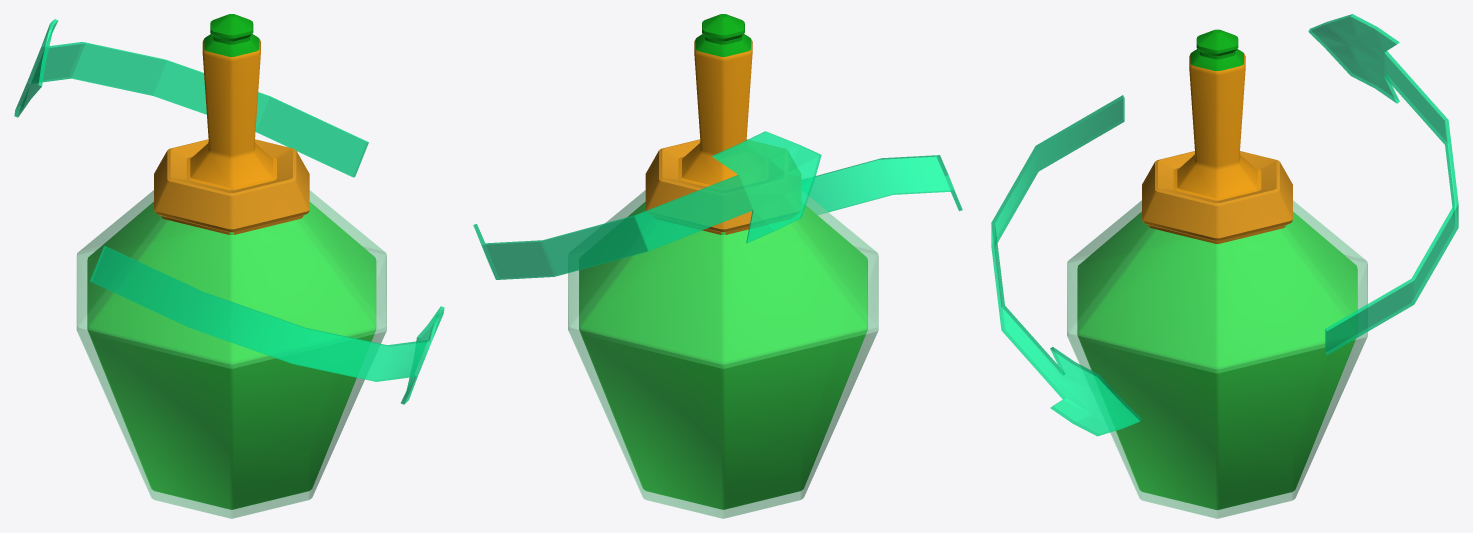
The model's file is change potion.FBX.
3 renders of one model, left to right at view 1: azimuth 30°, elevation 25°; view 2: azimuth 150°, elevation 25°; view 3: azimuth 270°, elevation 25°, orthographic. The views are drawn at different scales.
Parts seen in each view (by area): view 1: change potion; view 2: change potion; view 3: change potion.
Part boxes in pixels (x1=…): change potion: x1=14, y1=14, x2=444, y2=518; change potion: x1=473, y1=14, x2=962, y2=518; change potion: x1=991, y1=14, x2=1458, y2=518.
Bounding box in the file's own units: 20.92 × 24.21 × 22.72.
